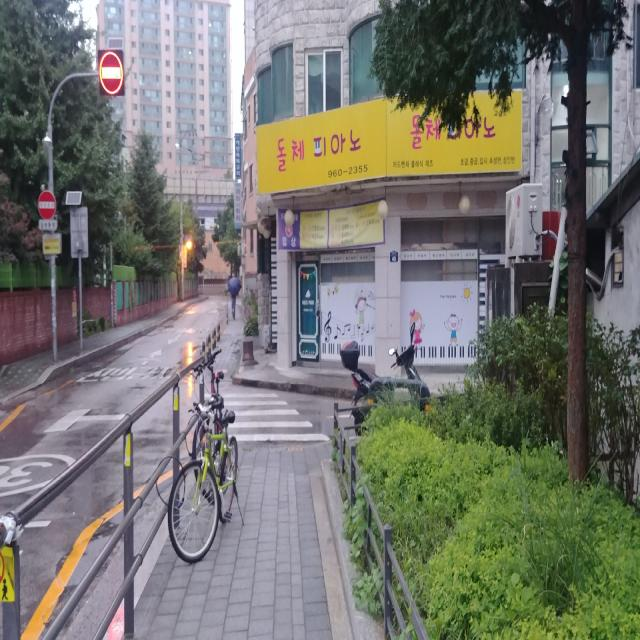횡단보도: (203, 392, 331, 442)
